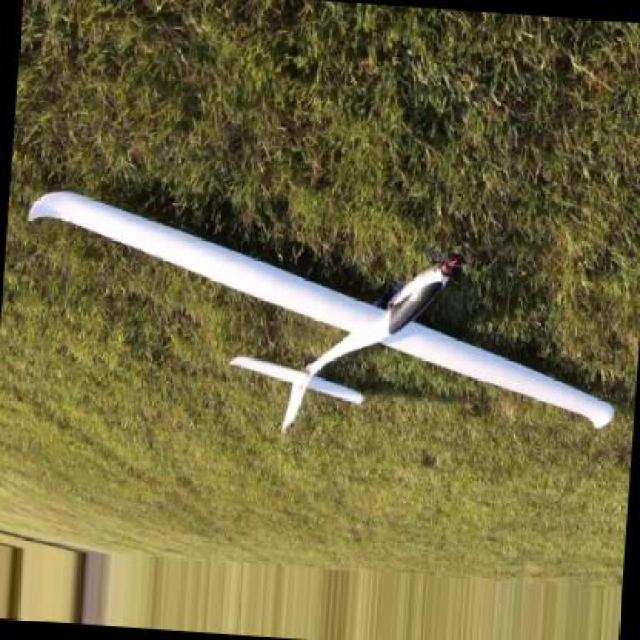iha: (20, 179, 621, 448)
